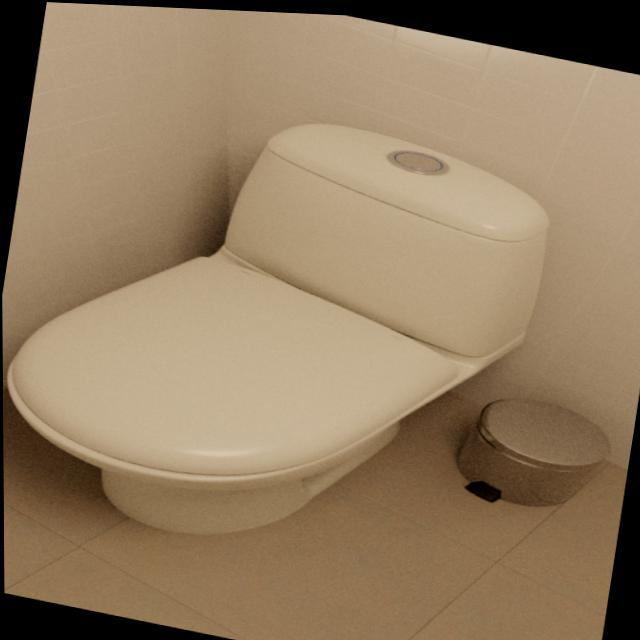toilet: (0, 62, 561, 594)
